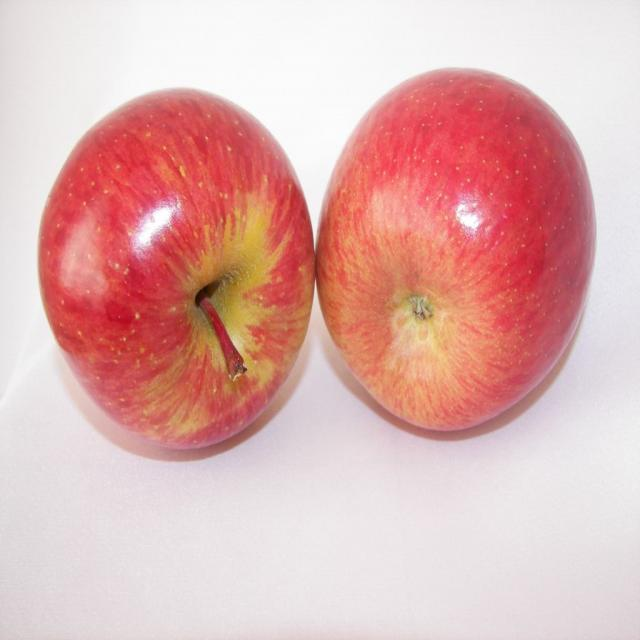Apple: (314, 63, 599, 440), (27, 85, 314, 451)
